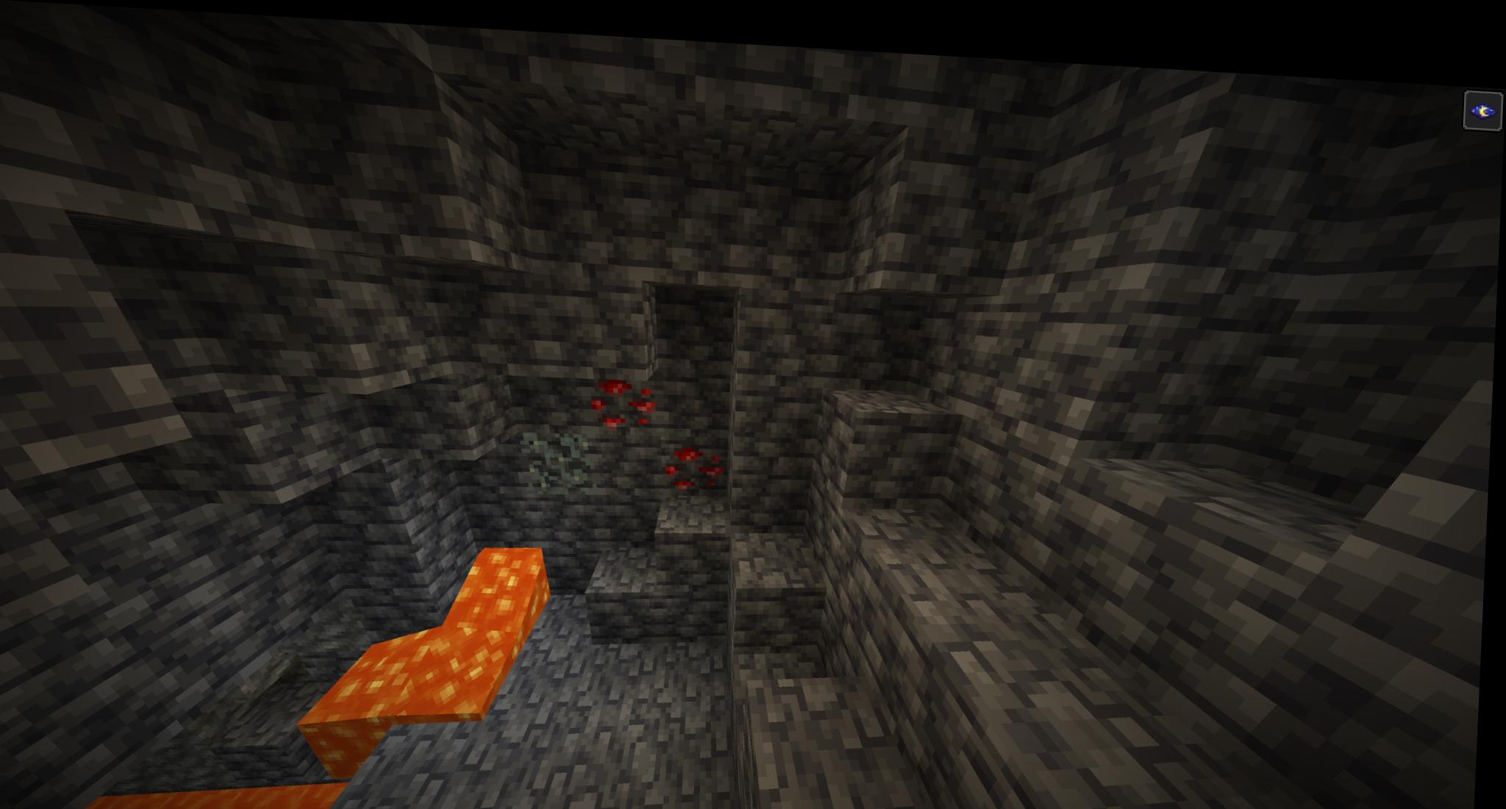redstone ore: (594, 363, 661, 430), (664, 425, 733, 490)
